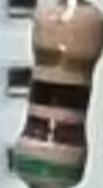Black: (29, 80, 92, 113)
Brown: (17, 113, 86, 150)
Green: (13, 153, 85, 184)
Side-Gold: (30, 43, 99, 82)
